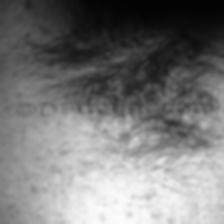Unclassified: (0, 121, 224, 193), (32, 44, 214, 88)
